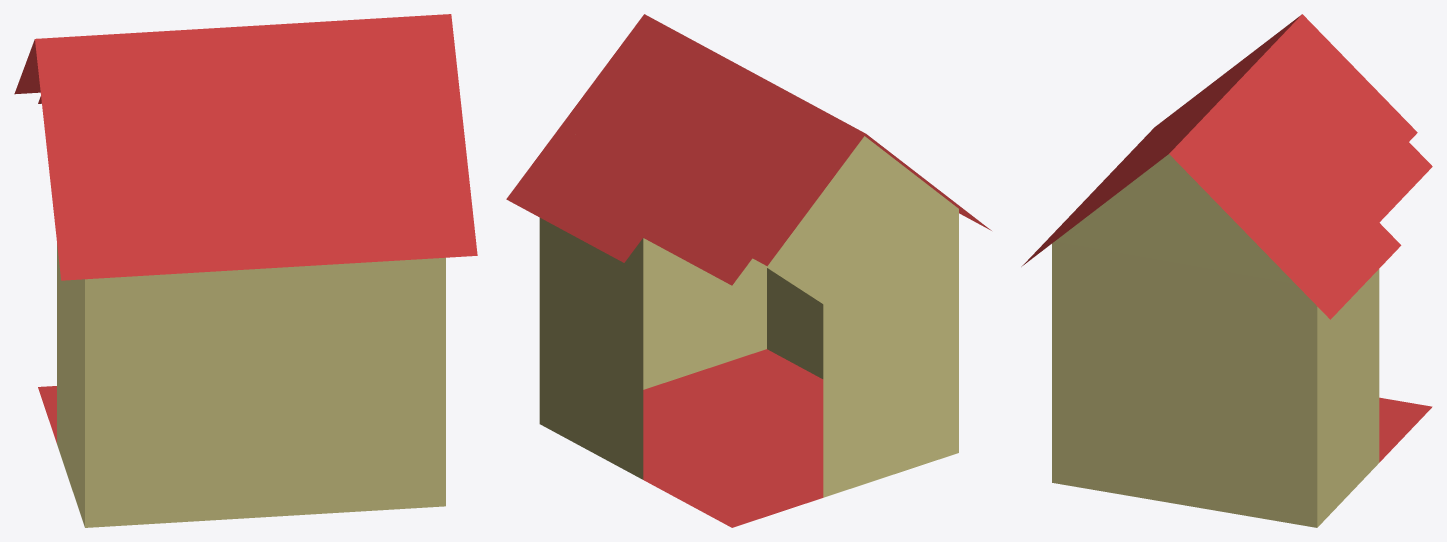
3 views of the same model, side by side, from view 1: azimuth 30°, elevation 25°; view 2: azimuth 150°, elevation 25°; view 3: azimuth 270°, elevation 25° (orthographic). The views are drawn at different scales.
Bounding box in the file's own units: 14.35 × 12.97 × 12.5.
